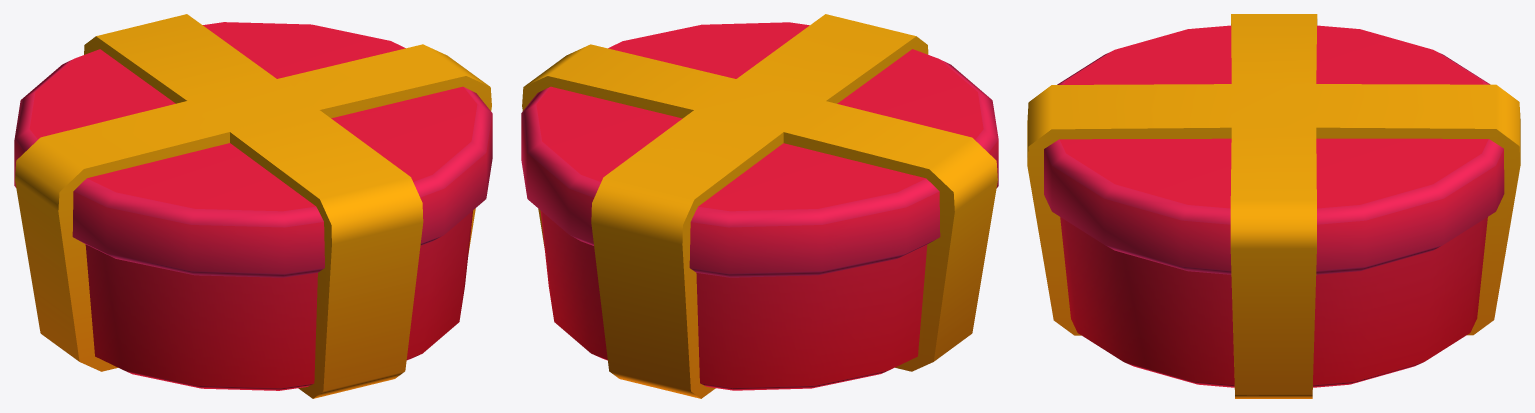
File: giftbox_036.fbx
3 renders of one model, left to right at view 1: azimuth 30°, elevation 25°; view 2: azimuth 150°, elevation 25°; view 3: azimuth 270°, elevation 25°, orthographic.
Visible parts, largest first — view 1: giftbox_036; view 2: giftbox_036; view 3: giftbox_036.
Part boxes in pixels (bbox=[...]): giftbox_036: bbox=[14, 14, 492, 398]; giftbox_036: bbox=[521, 14, 998, 398]; giftbox_036: bbox=[1027, 14, 1520, 398].
Bounding box in the file's own units: 235 × 232 × 109.
